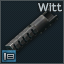Mosin Witt Machine muzzle brake: (0, 0, 64, 64)
